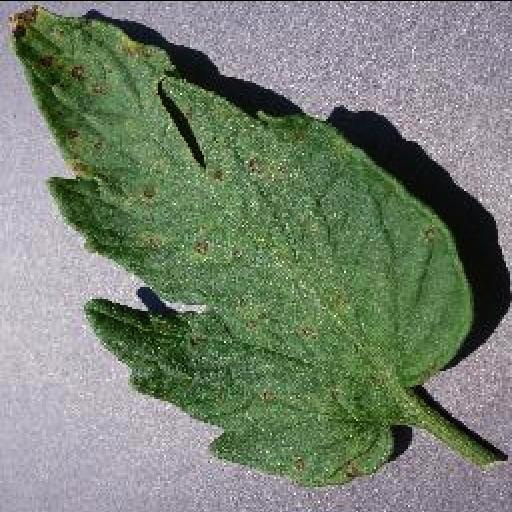disease_tomato: (10, 6, 476, 490)
